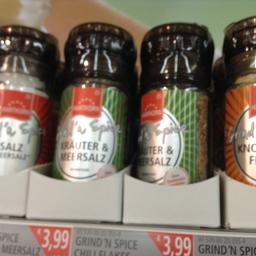spices: (50, 20, 132, 180), (136, 20, 213, 182), (0, 24, 53, 169), (222, 14, 255, 180)
